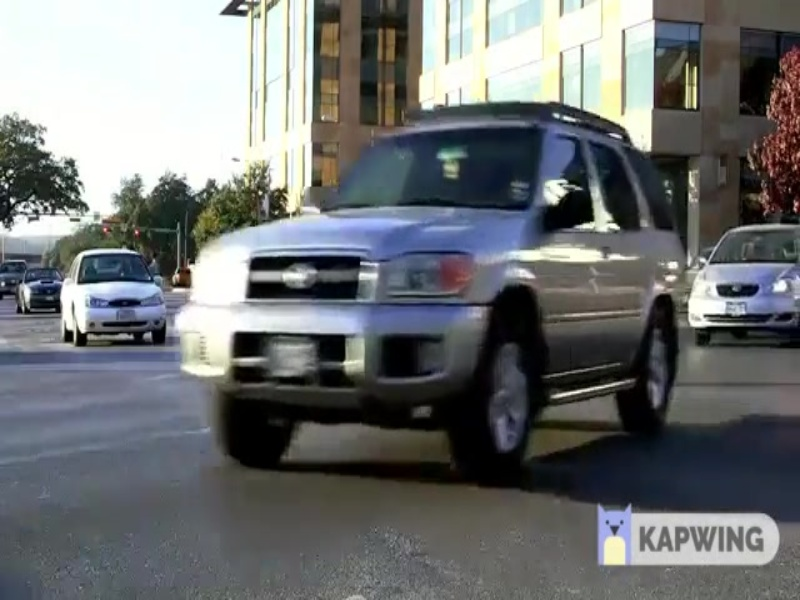car: (158, 107, 691, 485), (687, 219, 800, 351), (53, 248, 173, 345)
